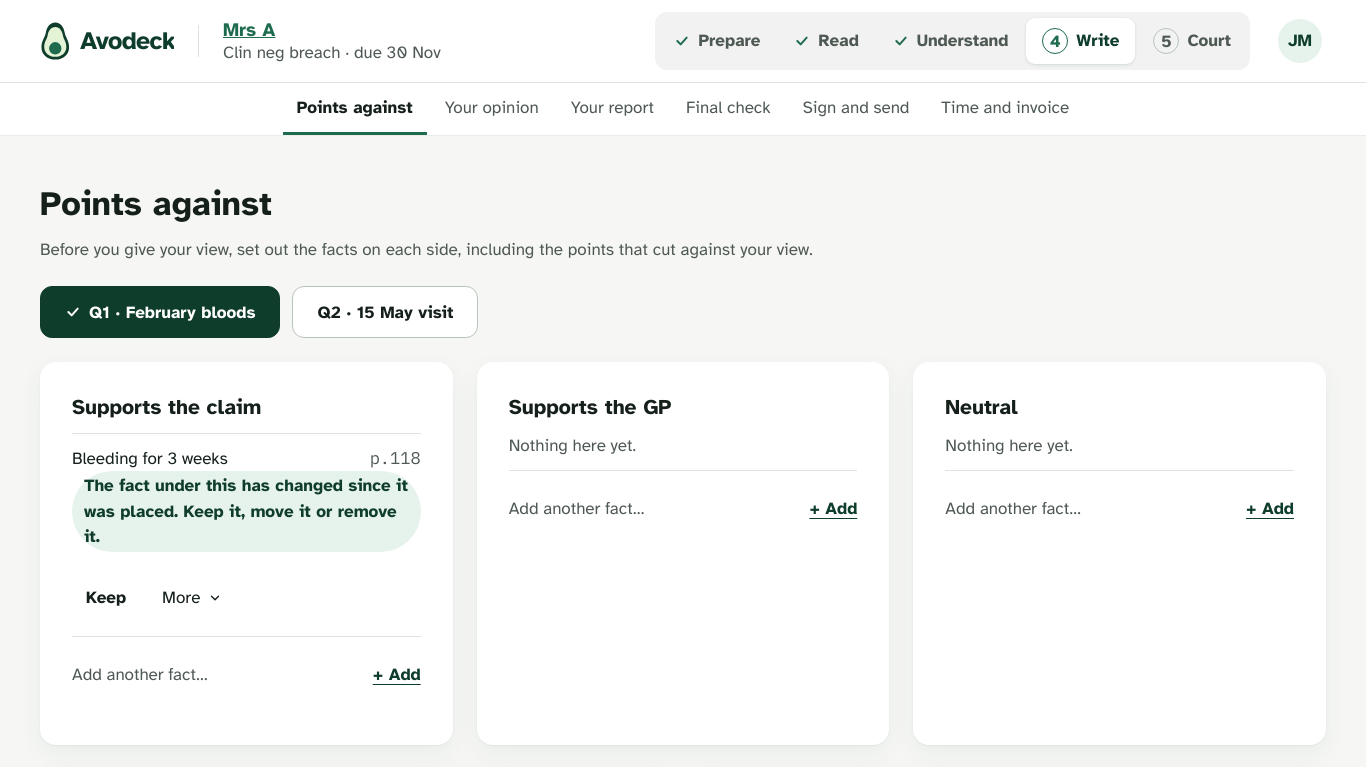
Test: a point whose fact changed says so, and Keep accepts it again with the version you saw
Expected: the text "The fact under this has changed since it was placed. Keep it, move it or remove it." is shown, x1=84 y1=475 x2=408 y2=547
Step 1. Click the button "Keep" → point(106, 598), box x1=72 y1=572 x2=140 y2=624
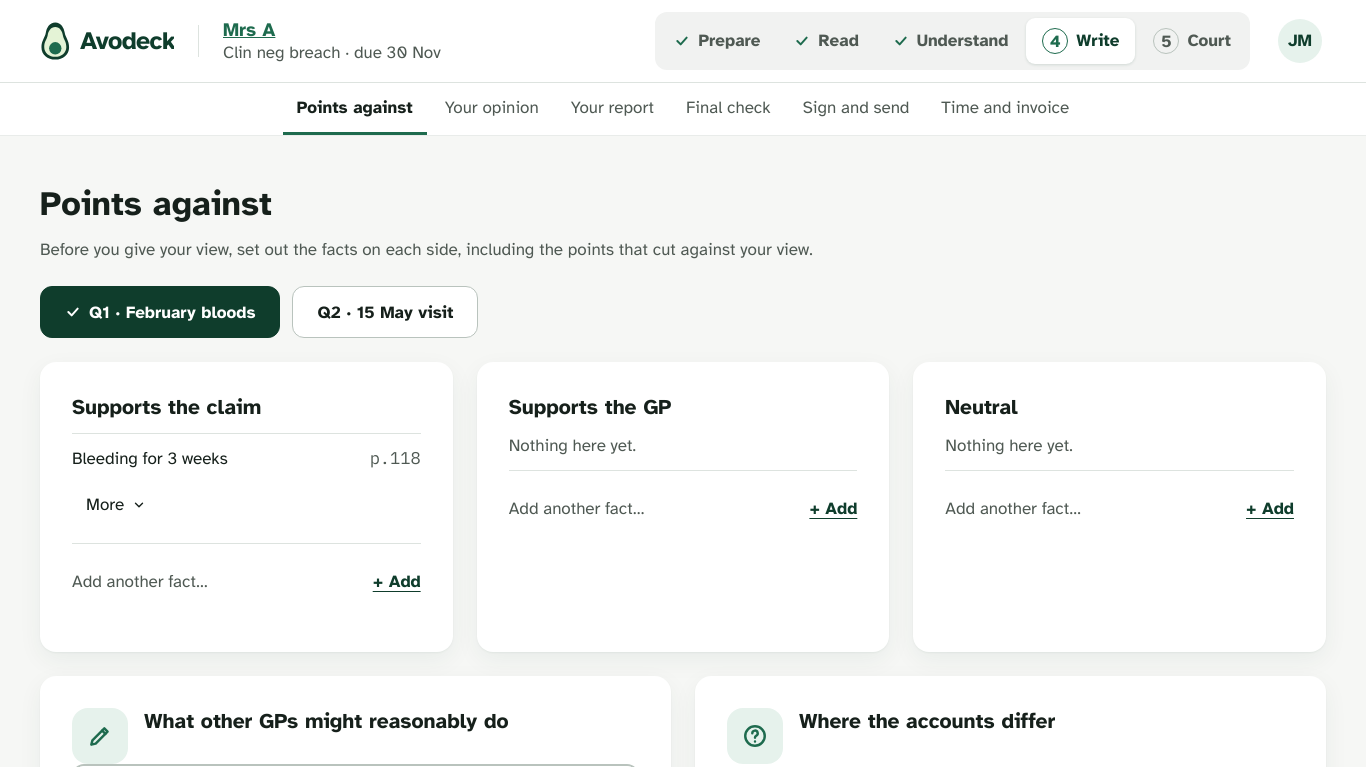
Result: the text "The fact under this has changed since it was placed. Keep it, move it or remove it." is gone
